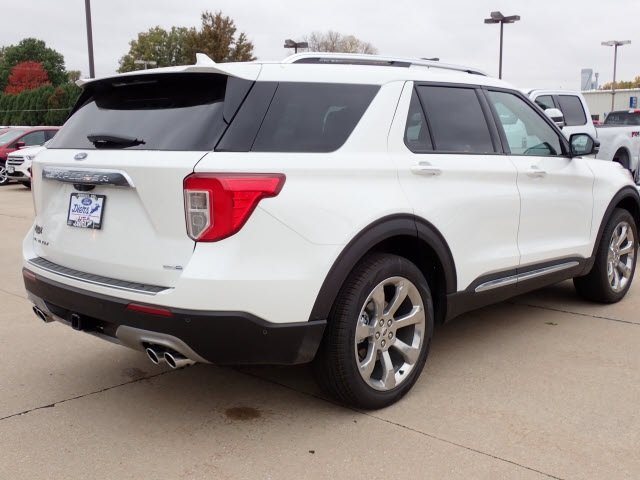Ford Explorer: (22, 51, 640, 411)
